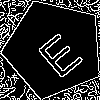E: (29, 24, 85, 80)
